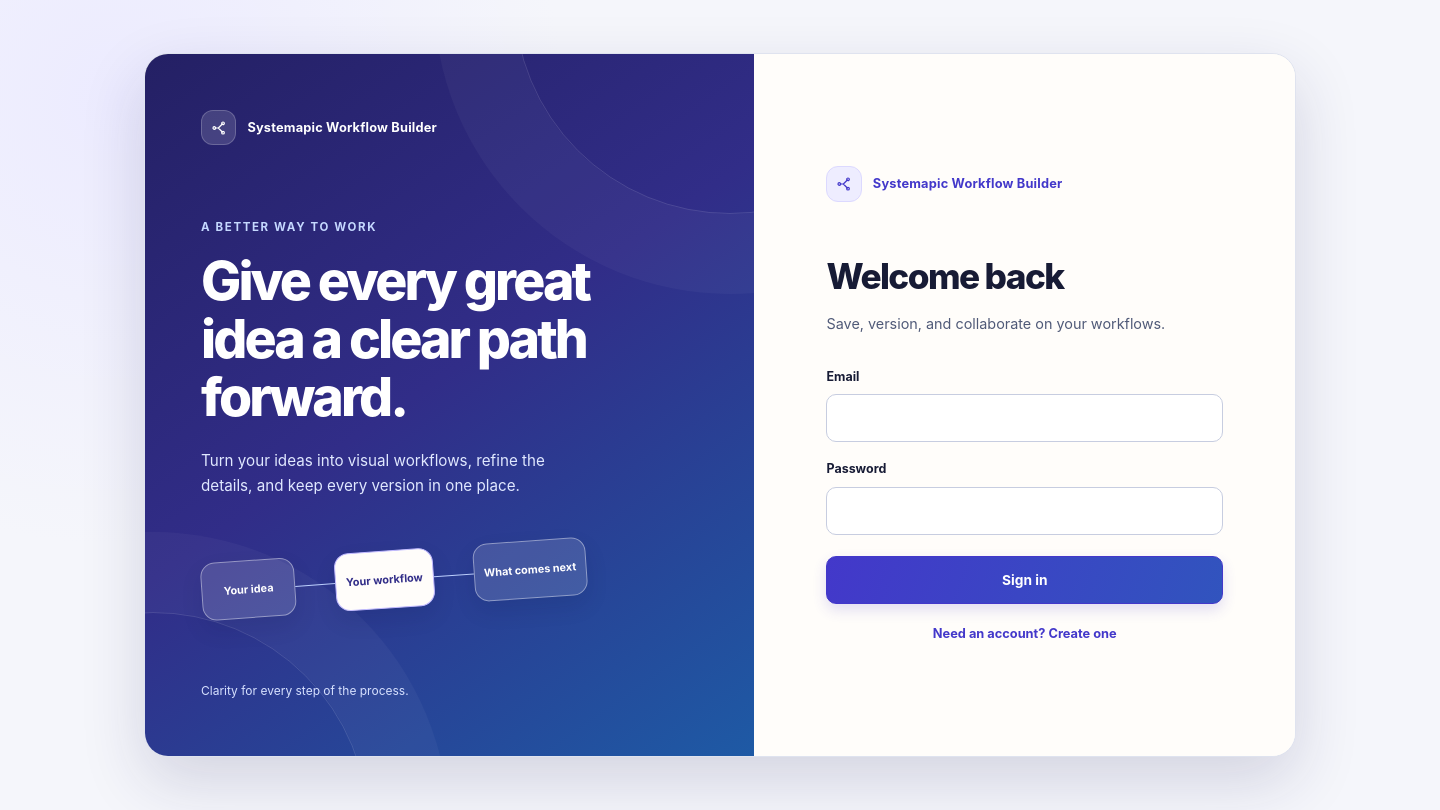
Test: AuthScreen › explains that email confirmation is required
Expected: the text "Systemapic Workflow Builder" is shown 2 times, x1=201 y1=110 x2=437 y2=145; x1=826 y1=166 x2=1062 y2=202
Click the button "Need an account? Create one" at (1025, 634), box x1=933 y1=624 x2=1117 y2=644
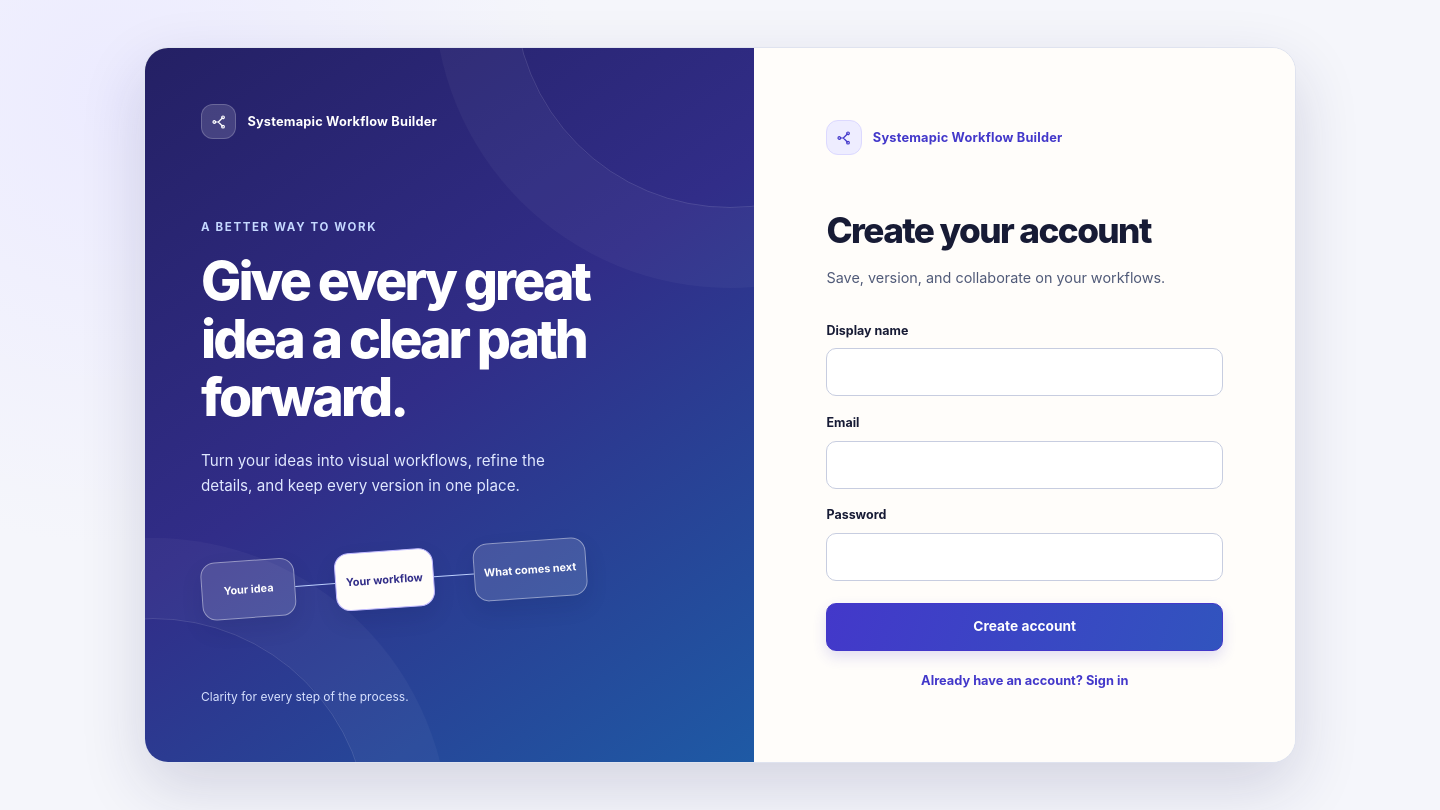
Type "A" into the field labelled "Display name" at (1025, 372), box x1=826 y1=348 x2=1223 y2=396
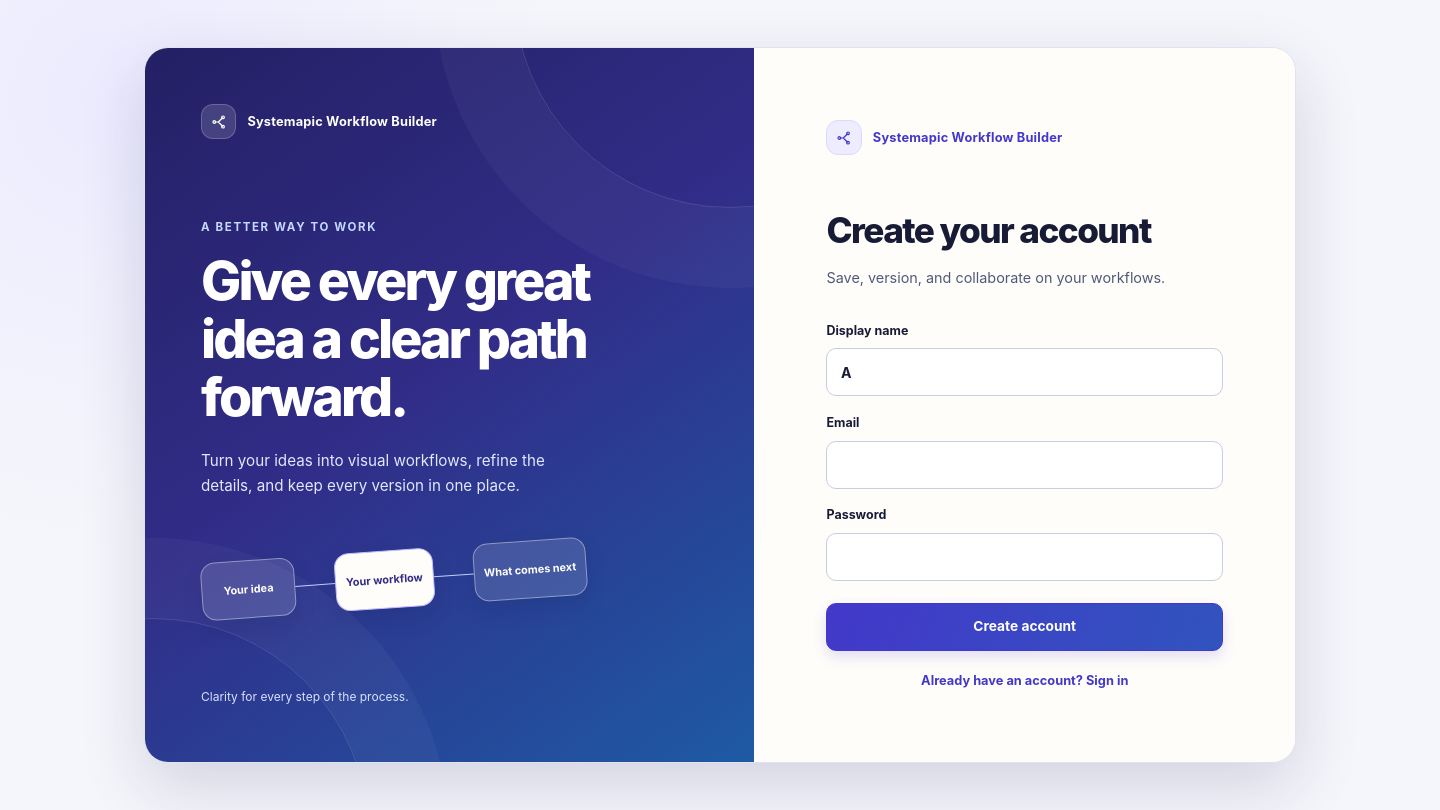
Type "a@example.com" into the field labelled "Email" at (1025, 465), box x1=826 y1=441 x2=1223 y2=489
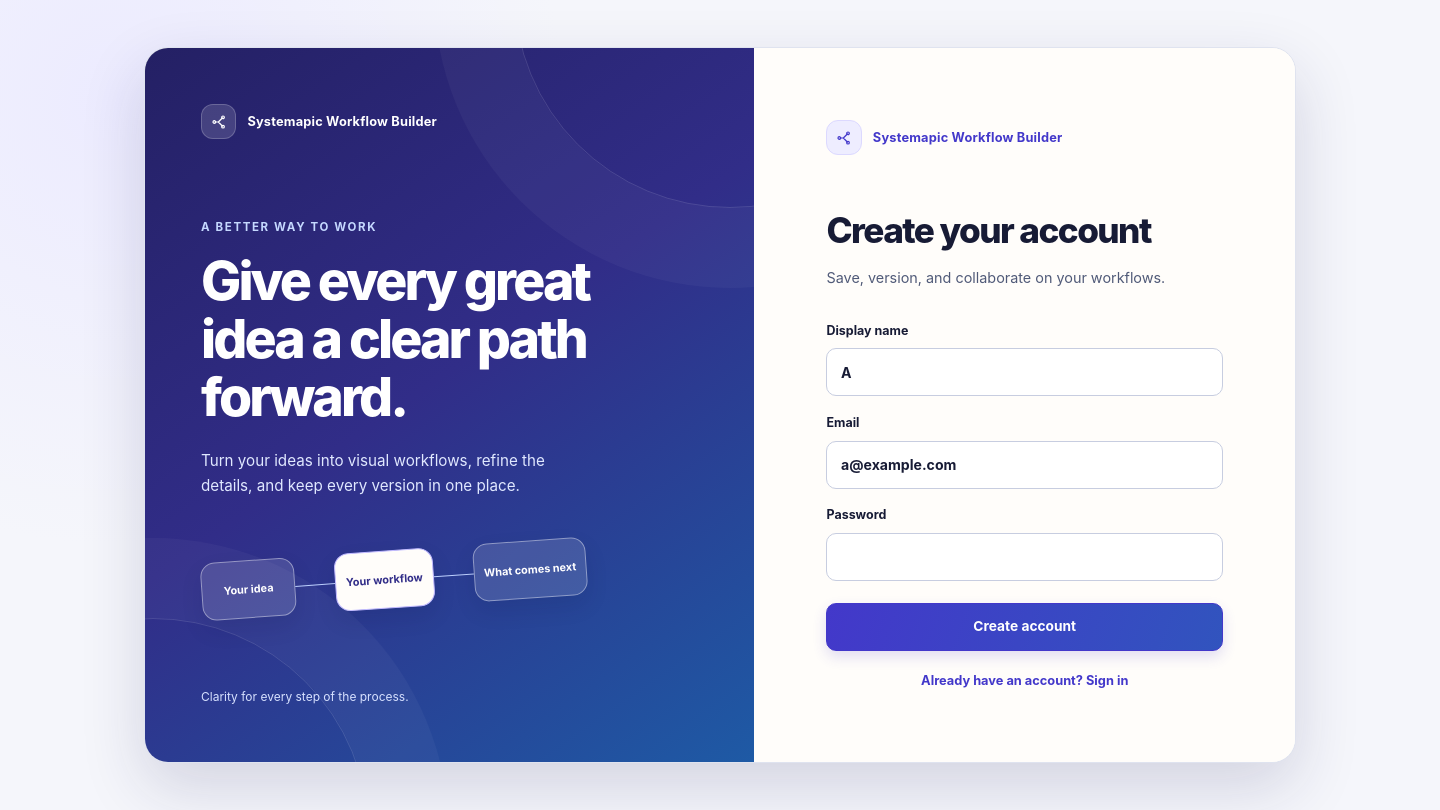
Type "password123" into the password field labelled "Password" at (1025, 557), box x1=826 y1=533 x2=1223 y2=581
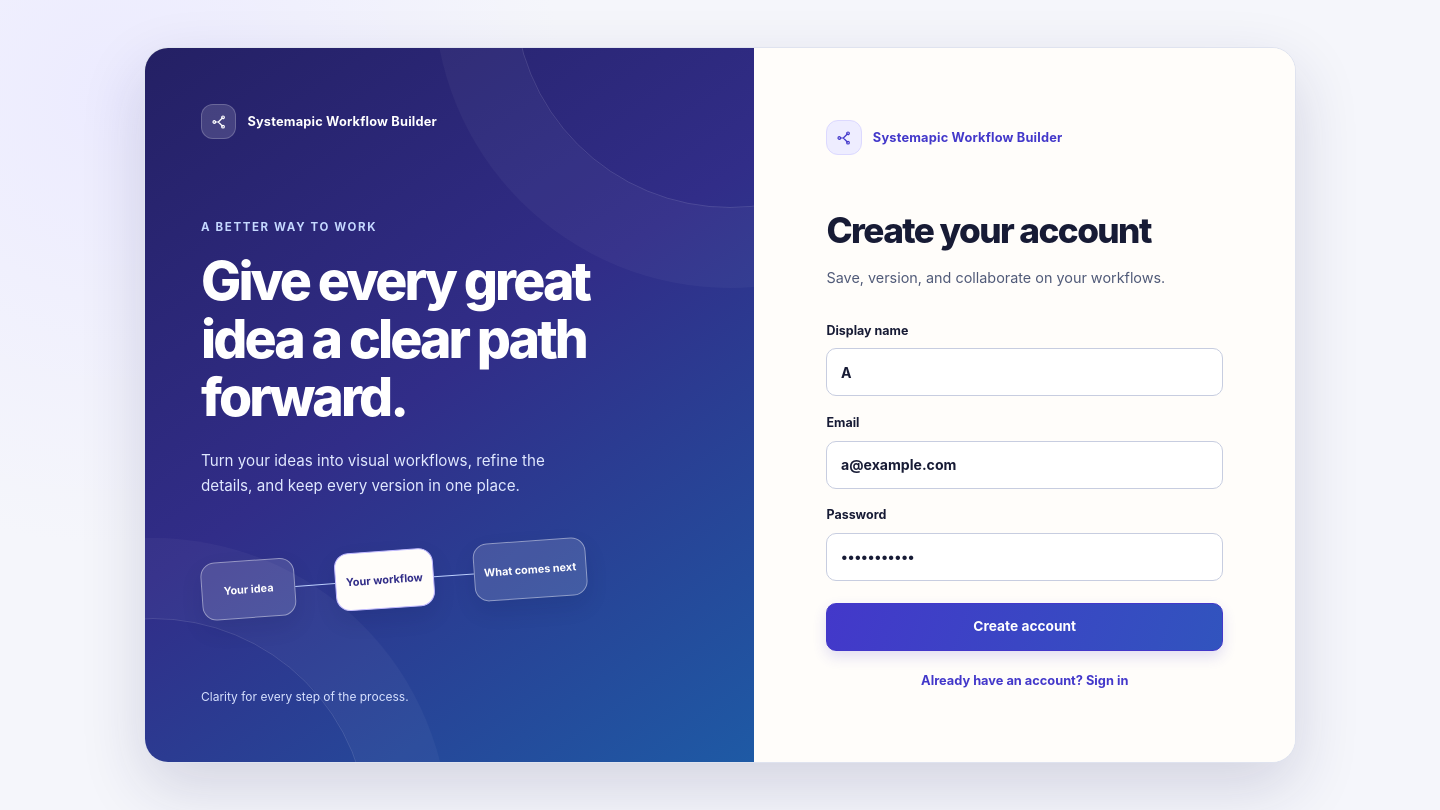
Click the button "Create account" at (1025, 626), box x1=826 y1=602 x2=1223 y2=650
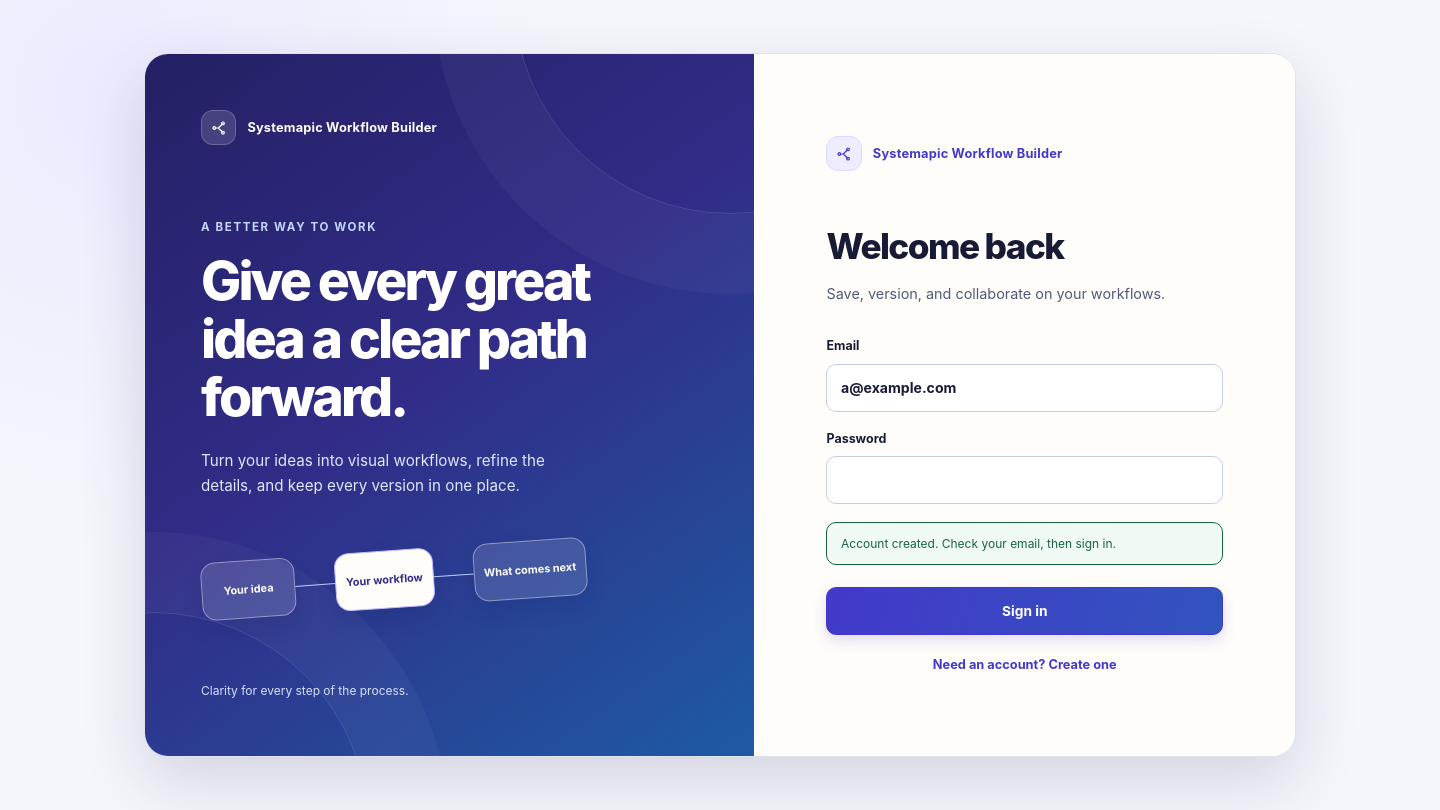
Now the message shows "Check your email, then sign in", box x1=841 y1=536 x2=1116 y2=551
